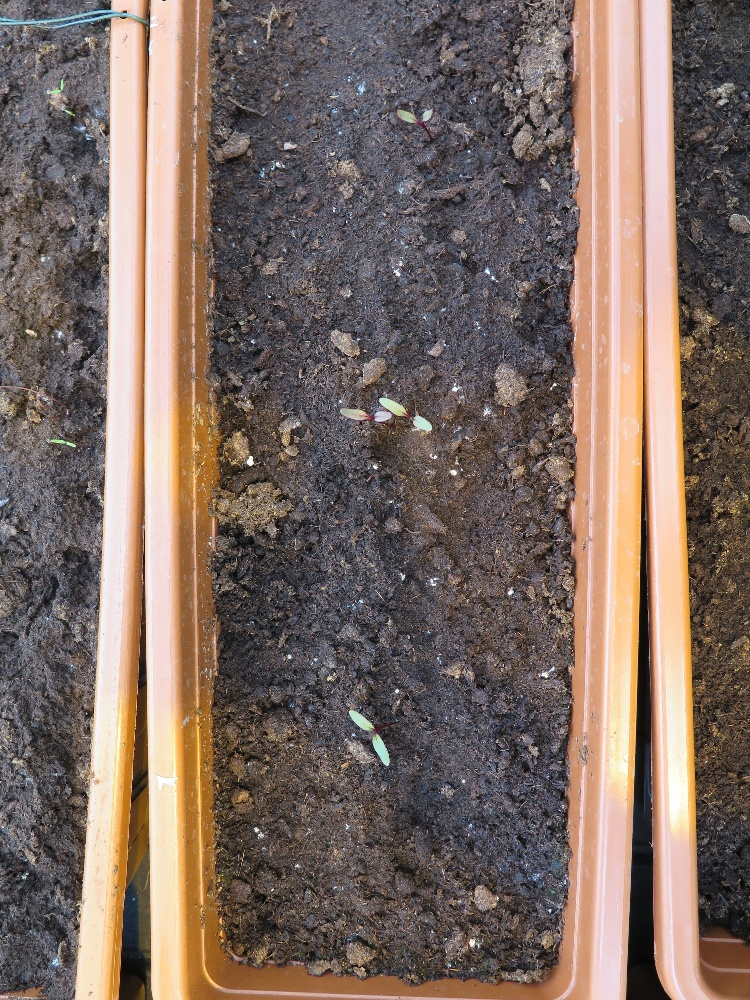crop: (347, 708, 390, 768), (377, 394, 433, 432), (337, 403, 395, 430), (395, 103, 434, 128)
weed: (47, 435, 77, 450)
